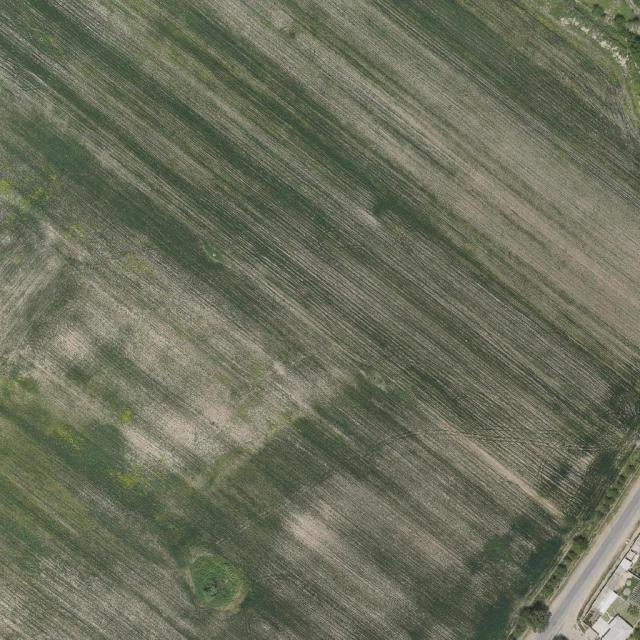building: (591, 586, 619, 616), (591, 617, 612, 638)
